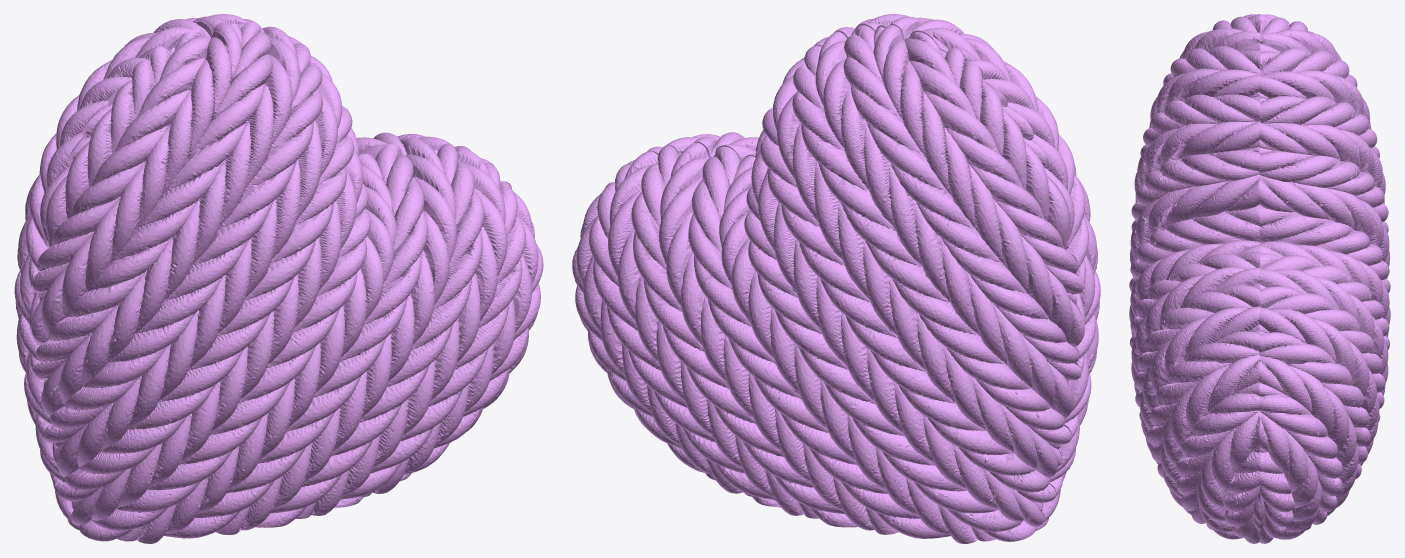
Rendered from heart-stand.glb.
3 views of the same model, side by side, from view 1: azimuth 30°, elevation 25°; view 2: azimuth 150°, elevation 25°; view 3: azimuth 270°, elevation 25° (orthographic). The views are drawn at different scales.
Parts seen in each view (by area): view 1: knitted_heart cut.stl_fil1; view 2: knitted_heart cut.stl_fil1; view 3: knitted_heart cut.stl_fil1.
Part boxes in pixels (x1,y1,x2,y2): knitted_heart cut.stl_fil1: (14,14,543,543); knitted_heart cut.stl_fil1: (572,14,1100,543); knitted_heart cut.stl_fil1: (1129,14,1390,543).
Bounding box in the file's own units: 0.0387 × 0.0353 × 0.0196.
